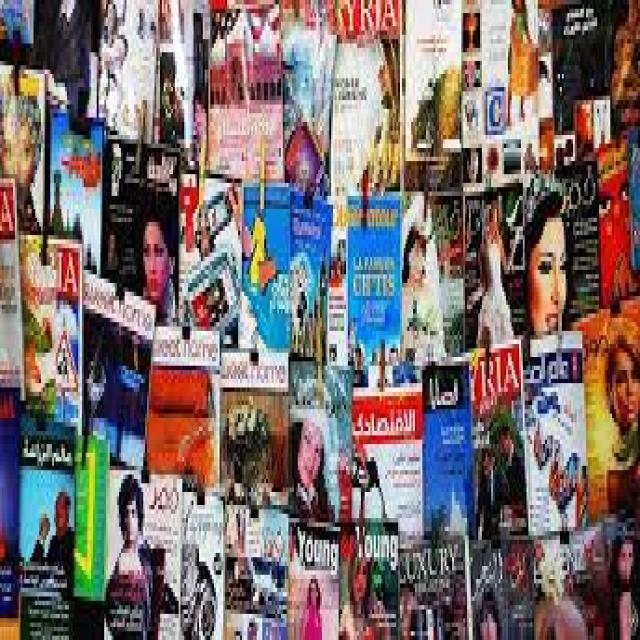paper: (4, 4, 638, 640)
